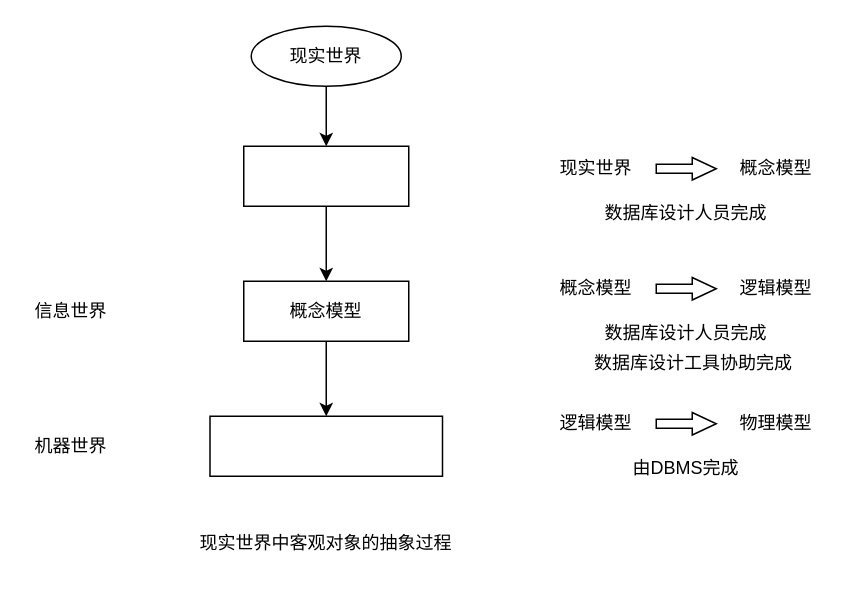
Image size: 846x593. Some labels were removed from this diagram. The shapes that lost their labels are listed below. From the top down, each one's box as (x1, y1, x2, y2) in pixels, then its label:
(242, 145, 409, 206): 人的认知抽象
(208, 415, 442, 476): DBMS支持的数据模型
